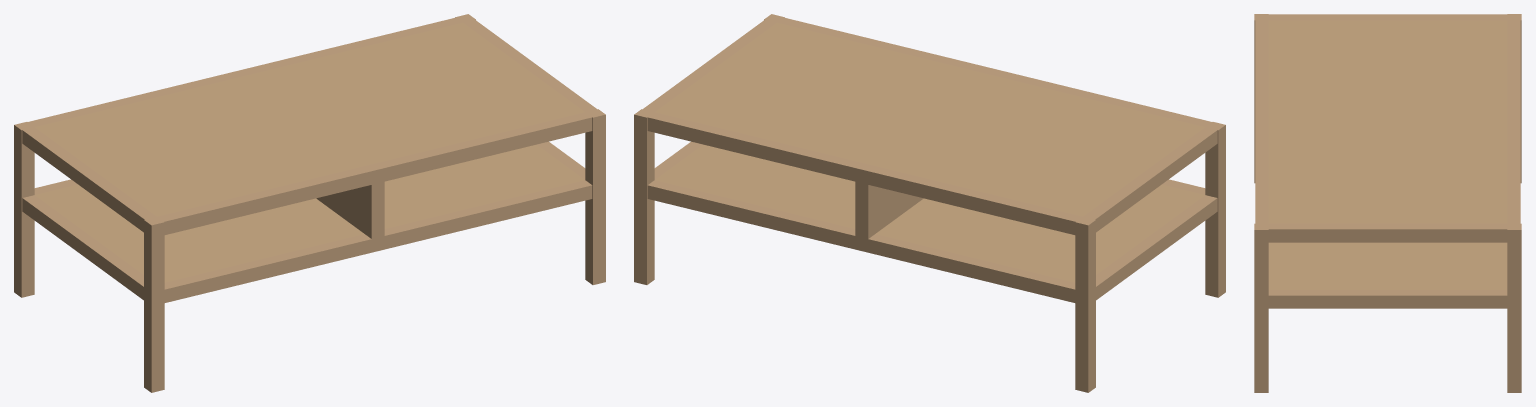
Rendered from lowTable.fbx.
The picture shows the model from 3 angles, left to right: view 1: azimuth 30°, elevation 25°; view 2: azimuth 150°, elevation 25°; view 3: azimuth 270°, elevation 25°; orthographic projection. The views are drawn at different scales.
Parts seen in each view (by area): view 1: lv_ltb_tp_6; view 2: lv_ltb_tp_6; view 3: lv_ltb_tp_6.
Part boxes in pixels (x1,y1,x2,y2): lv_ltb_tp_6: (14, 14, 605, 392); lv_ltb_tp_6: (634, 14, 1225, 392); lv_ltb_tp_6: (1254, 14, 1521, 392).
Bounding box in the file's own units: 105 × 37 × 55.
